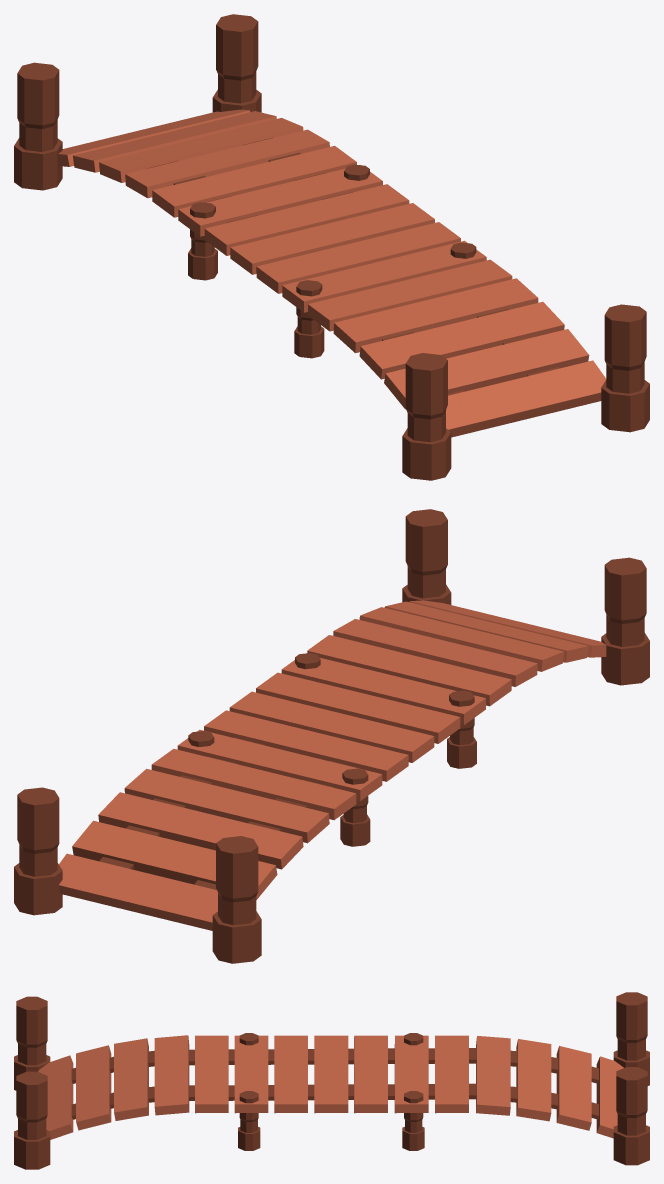
Rendered from Bridge.fbx.
3 views of the same model, one above another, from view 1: azimuth 30°, elevation 25°; view 2: azimuth 150°, elevation 25°; view 3: azimuth 270°, elevation 25° (orthographic). The views are drawn at different scales.
Parts seen in each view (by area): view 1: Bridge; view 2: Bridge; view 3: Bridge.
Part boxes in pixels (box(x1,y1,x2,y2)): Bridge: box(14, 14, 649, 480); Bridge: box(14, 509, 649, 963); Bridge: box(14, 992, 649, 1169).
Bounding box in the file's own units: 502 × 230 × 1496.
